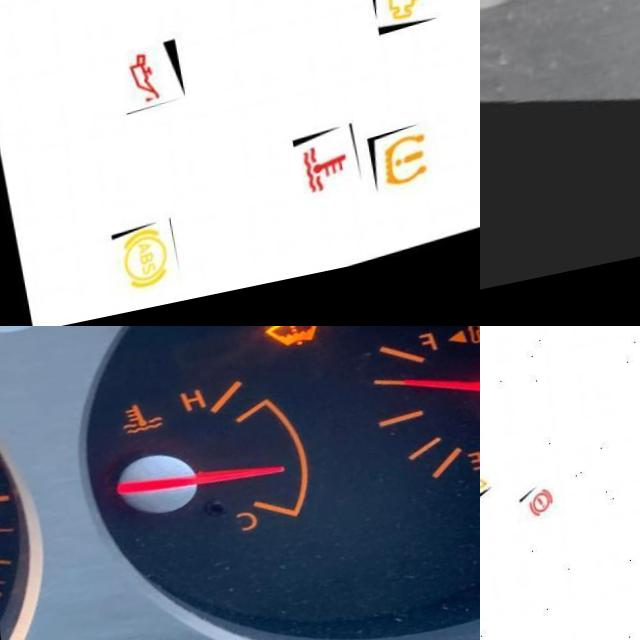High Engine Coolant Temperature: (109, 404, 163, 447)
